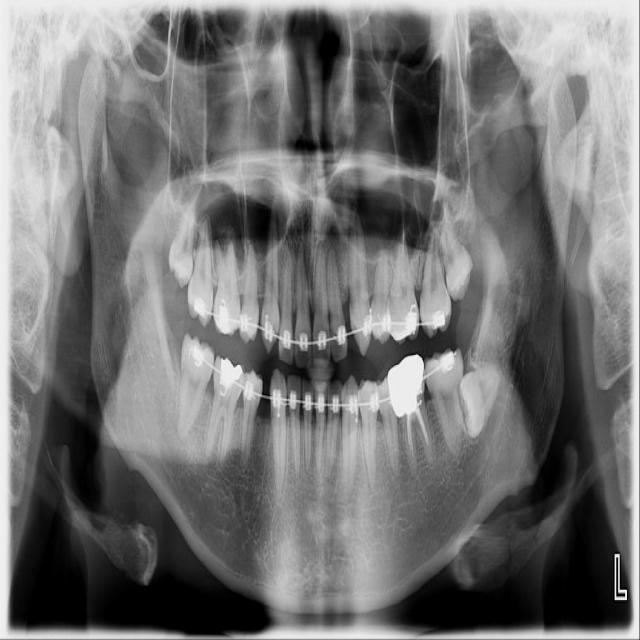Crown: (387, 354, 426, 417)
Filling: (213, 355, 245, 404)
Root Canal Treatment: (417, 408, 438, 461), (406, 412, 416, 470)
impacted tooth: (460, 361, 502, 438), (441, 204, 473, 301), (168, 190, 196, 286)
